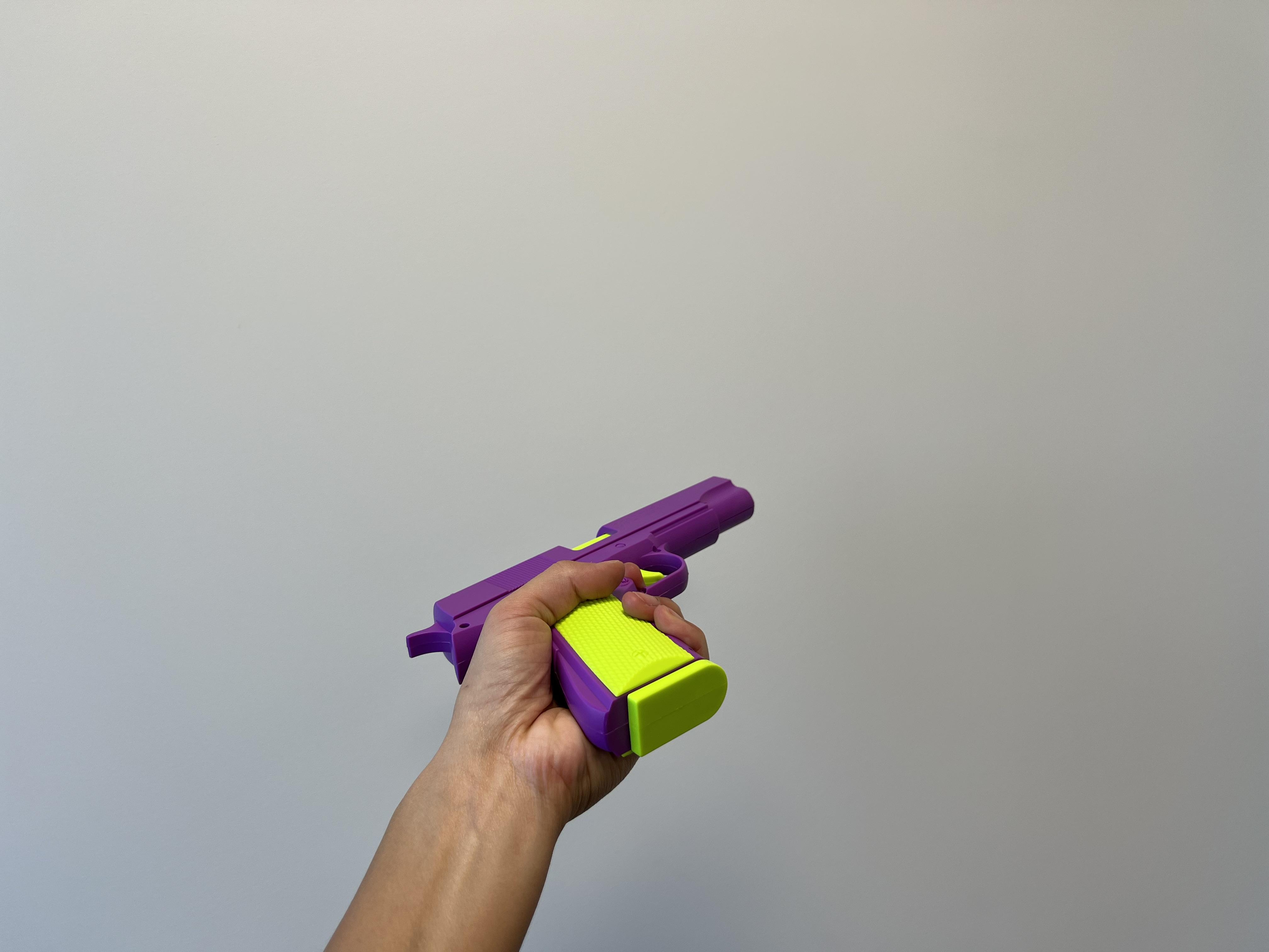Knife: (315, 552, 719, 952), (401, 471, 746, 767), (434, 556, 721, 826)
